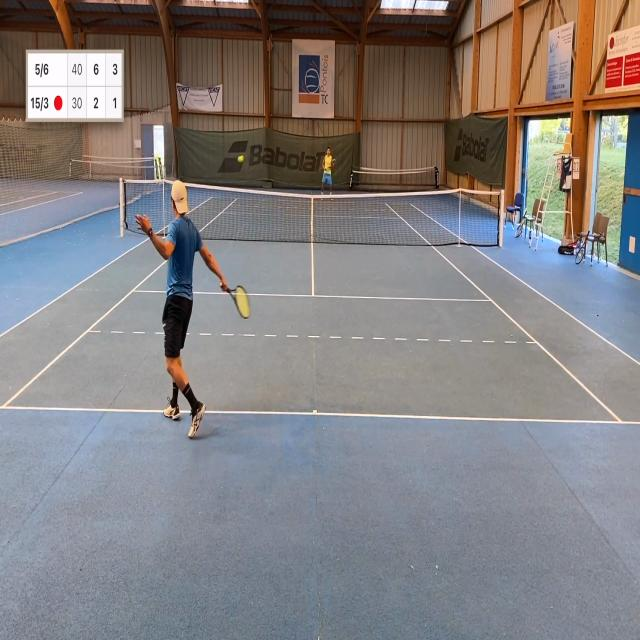ball: (237, 155, 245, 163)
